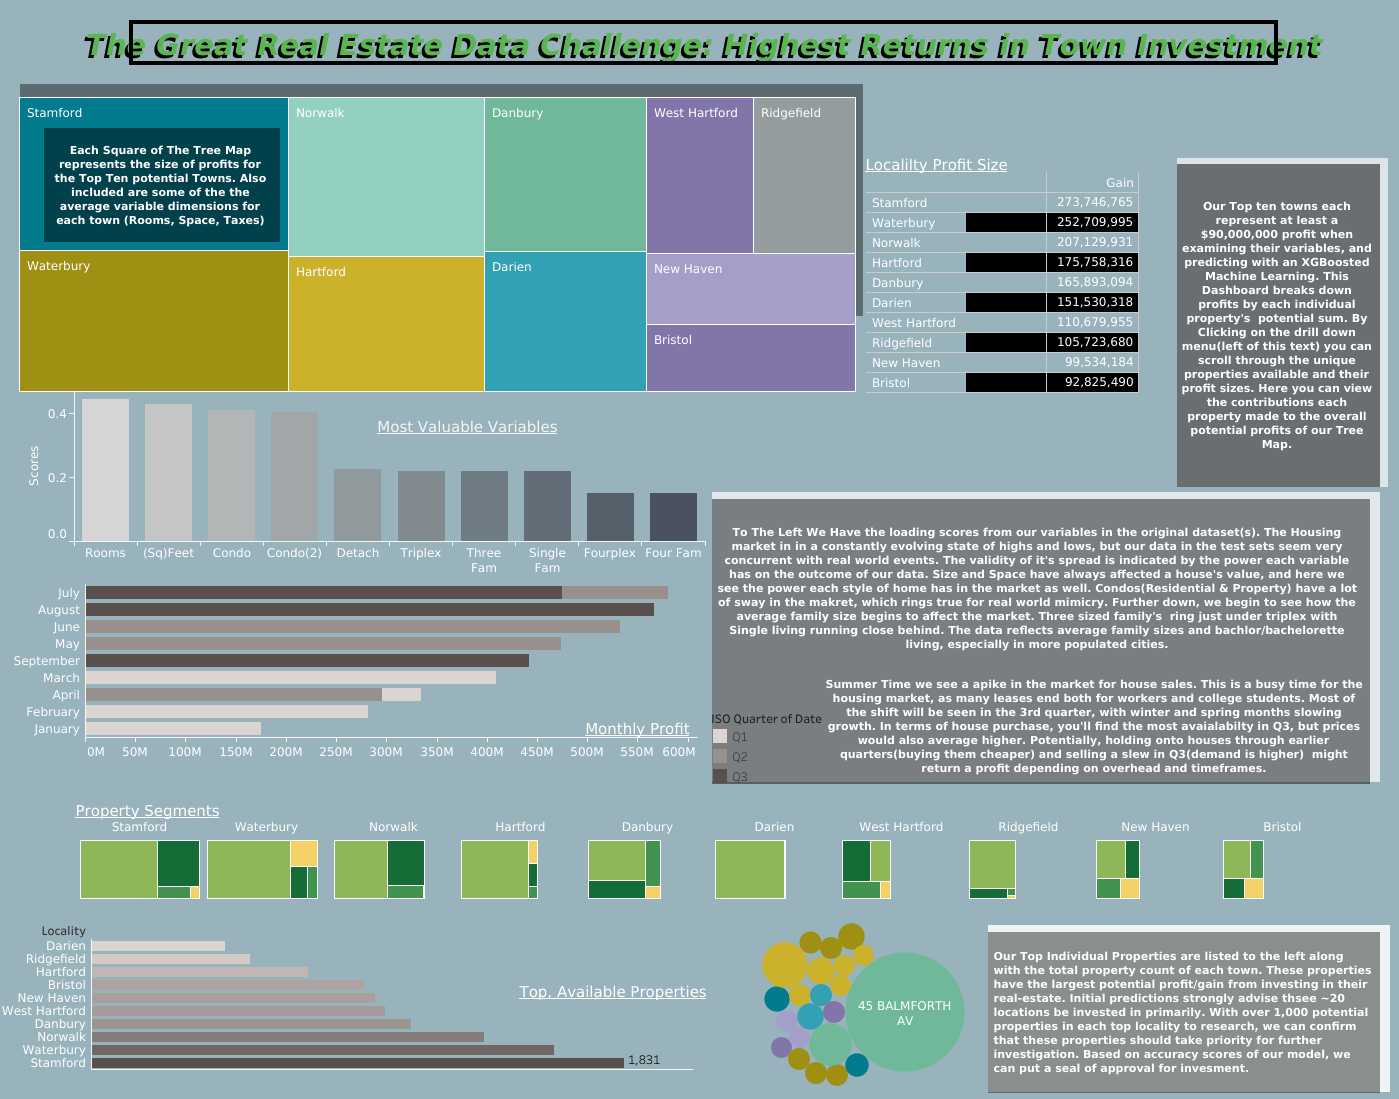

Layout of this report page (visuals, bound fields, positions):
{"tool":"tableau","page":{"name":"Dashboard 1","canvas":[1400,1100],"ordinal":0},"visuals":[{"type":"text","box":[30.3,10,1349.8,69]},{"type":"text","box":[26.8,13,1349.8,69]},{"type":"blank","box":[129,20,1149,45]},{"type":"blank","box":[19.8,84,843.5,232]},{"type":"worksheet","title":"Top gains","mark":"Automatic","box":[15.2,93,843.5,314]},{"type":"blank","box":[44,128,236,114]},{"type":"text","box":[46,133,229,103]},{"type":"text","box":[863,150,147,30]},{"type":"blank","box":[1177.2,158,211.2,329]},{"type":"blank","box":[1177.2,164,203,323]},{"type":"text","box":[1179,165,196,320]},{"type":"worksheet","title":"Sheet 5","mark":"Automatic","rows":["Locality (city_address.csv)","Calculation_4887038939830939648","Calculation_4887038939831980033"],"box":[865.7,172,297.5,229]},{"type":"worksheet","title":"Loading Scores","mark":"Automatic","rows":["F2"],"cols":["F1 (loading scores.csv)"],"box":[19,392,686,189]},{"type":"image","param":"Image/landscape-of-the-neighborhoods-of-the-city-the-houses-of-the-suburbs-resid","box":[792,396,349,90]},{"type":"text","box":[327,399,281,56]},{"type":"blank","box":[712,492,668,290]},{"type":"blank","box":[712,499,658,285]},{"type":"text","box":[715,503,644,170]},{"type":"worksheet","title":"Month Profits","mark":"Bar","rows":["Date"],"cols":["Gain"],"box":[5,584,692,200]},{"type":"text","box":[823,675,542,102]},{"type":"legend","title":"Month Profits","param":"[federated.0sp2gyz1bjtu8c13jx8p40a24pax].[iqr:Date:ok]","box":[710,707,163,86]},{"type":"text","box":[582,714,111,30]},{"type":"text","box":[73,796,149,30]},{"type":"worksheet","title":"top addy","mark":"Circle","box":[701.2,922,324.3,164]},{"type":"blank","box":[988.2,925,401.3,167]},{"type":"blank","box":[988.2,932,392,161]},{"type":"text","box":[991,934,385,156]},{"type":"text","box":[517,976,211,31]}]}

Visuals, with their boxes in screenshot pixels (x1, y1, x2, y2), scaled from the page's 1400x1100 canvas onto the 1399x1099 screenshot:
text: [x1=30, y1=10, x2=1379, y2=79]
text: [x1=27, y1=13, x2=1376, y2=82]
blank: [x1=129, y1=20, x2=1277, y2=65]
blank: [x1=20, y1=84, x2=863, y2=316]
"Top gains" worksheet: [x1=15, y1=93, x2=858, y2=407]
blank: [x1=44, y1=128, x2=280, y2=242]
text: [x1=46, y1=133, x2=275, y2=236]
text: [x1=862, y1=150, x2=1009, y2=180]
blank: [x1=1176, y1=158, x2=1387, y2=487]
blank: [x1=1176, y1=164, x2=1379, y2=487]
text: [x1=1178, y1=165, x2=1374, y2=485]
"Sheet 5" worksheet: [x1=865, y1=172, x2=1162, y2=401]
"Loading Scores" worksheet: [x1=19, y1=392, x2=704, y2=580]
image: [x1=791, y1=396, x2=1140, y2=486]
text: [x1=327, y1=399, x2=608, y2=455]
blank: [x1=711, y1=492, x2=1379, y2=781]
blank: [x1=711, y1=499, x2=1369, y2=783]
text: [x1=714, y1=503, x2=1358, y2=672]
"Month Profits" worksheet (Bar marks): [x1=5, y1=583, x2=697, y2=783]
text: [x1=822, y1=674, x2=1364, y2=776]
"Month Profits" legend: [x1=709, y1=706, x2=872, y2=792]
text: [x1=582, y1=713, x2=693, y2=743]
text: [x1=73, y1=795, x2=222, y2=825]
"top addy" worksheet (Circle marks): [x1=701, y1=921, x2=1025, y2=1085]
blank: [x1=987, y1=924, x2=1389, y2=1091]
blank: [x1=987, y1=931, x2=1379, y2=1092]
text: [x1=990, y1=933, x2=1375, y2=1089]
text: [x1=517, y1=975, x2=727, y2=1006]
